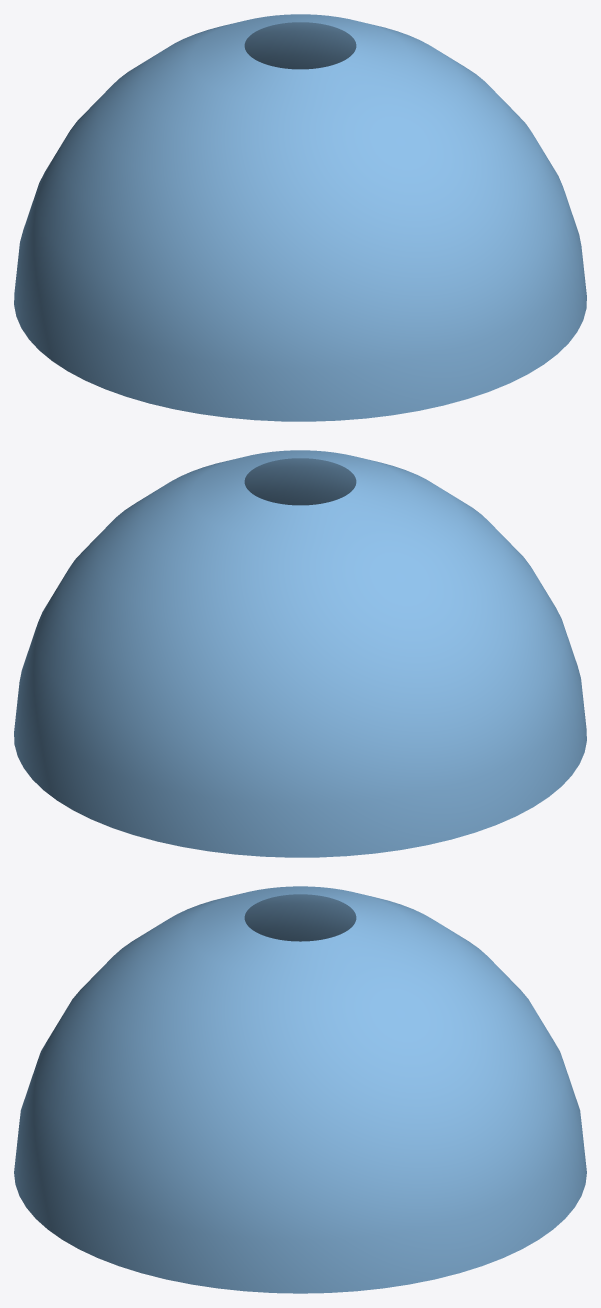
Rendered from Glass_Dome.fbx.
The picture shows the model from 3 angles, top to bottom: view 1: azimuth 30°, elevation 25°; view 2: azimuth 150°, elevation 25°; view 3: azimuth 270°, elevation 25°; orthographic projection.
Visible parts, largest first — view 1: Glass Dome; view 2: Glass Dome; view 3: Glass Dome.
Part boxes in pixels (x1,y1,x2,y2): Glass Dome: (14,14,586,421); Glass Dome: (14,450,586,857); Glass Dome: (14,886,586,1293).
Size of the model in its own units: 96.6 by 47.37 by 96.6.
